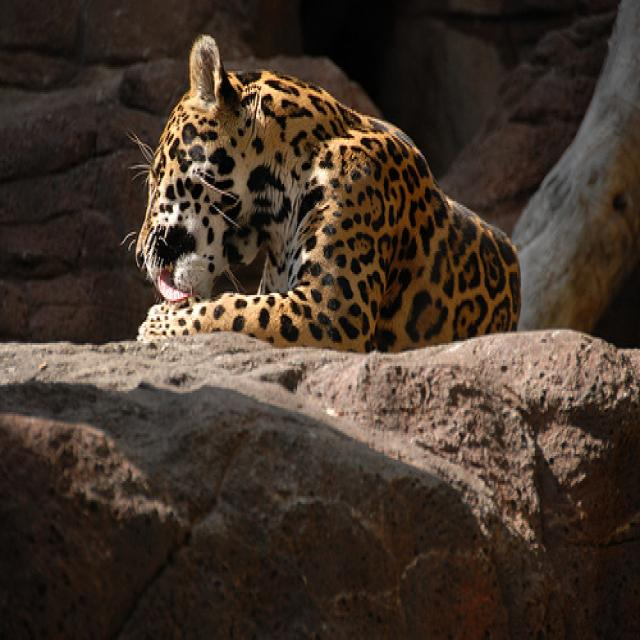Leopard: (116, 31, 524, 347)
